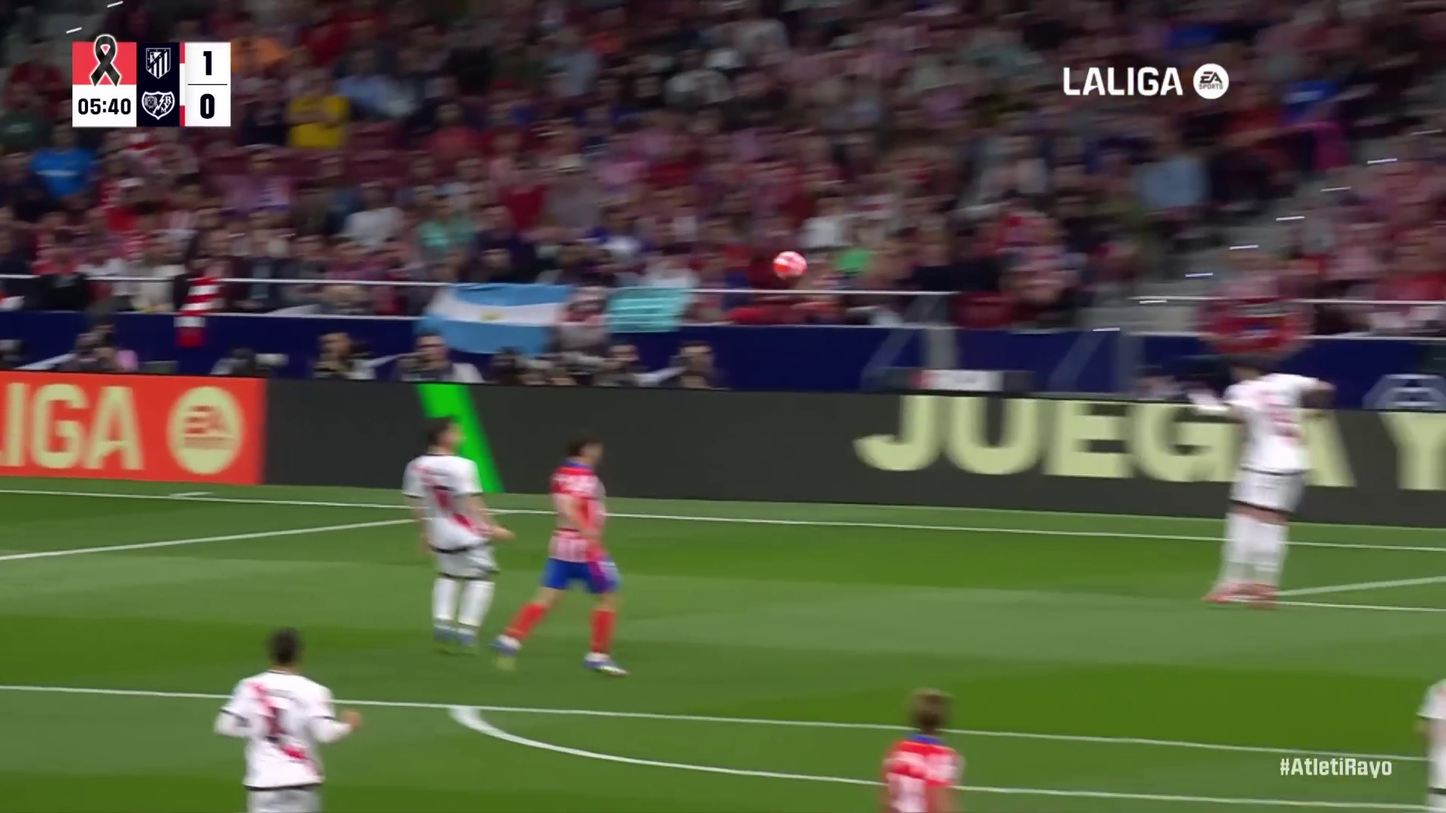ball: (763, 241, 812, 286)
player: (1200, 352, 1339, 617), (509, 439, 639, 680), (398, 420, 520, 642), (213, 642, 356, 810), (868, 685, 973, 813), (1409, 661, 1446, 813)
